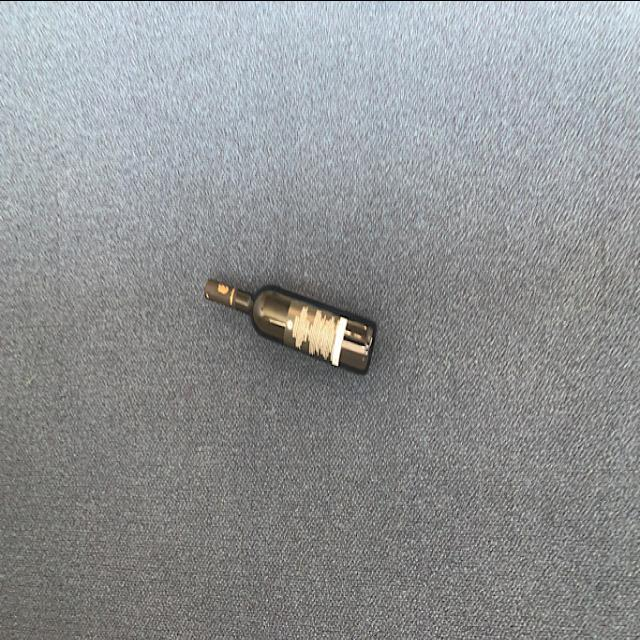litter: (202, 266, 382, 376)
